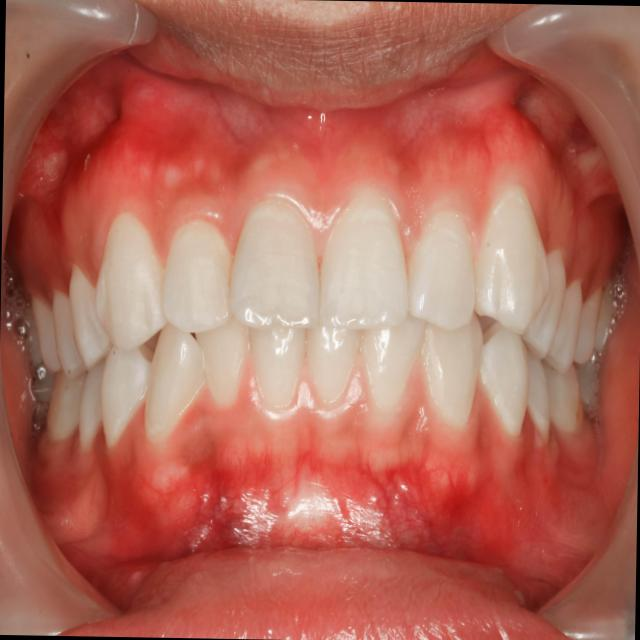Tooth: (318, 190, 408, 330), (230, 197, 320, 330), (474, 185, 550, 335), (95, 213, 168, 350), (162, 217, 234, 333), (408, 212, 476, 330), (144, 322, 206, 443), (420, 310, 482, 424), (361, 313, 425, 409), (479, 320, 528, 435), (100, 344, 154, 446), (194, 315, 250, 405), (521, 250, 566, 358), (69, 263, 113, 370), (249, 327, 306, 407), (306, 327, 361, 403), (543, 279, 583, 373), (52, 289, 86, 380), (79, 355, 107, 446), (572, 286, 602, 364)
